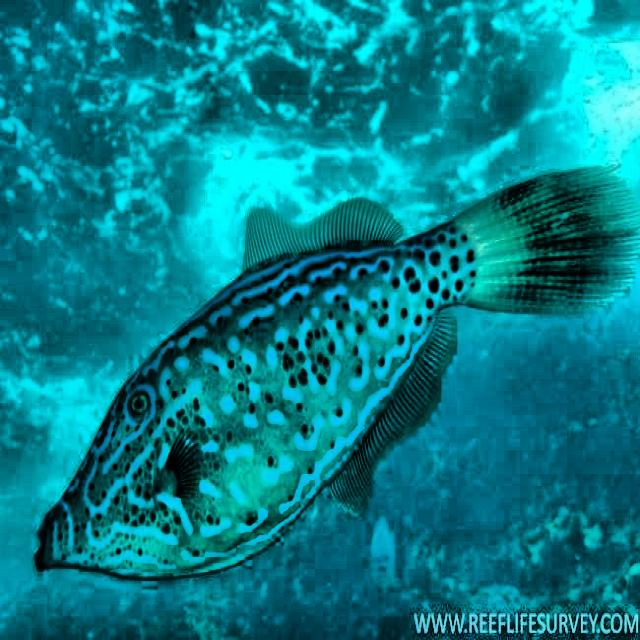fish: (35, 163, 638, 581)
